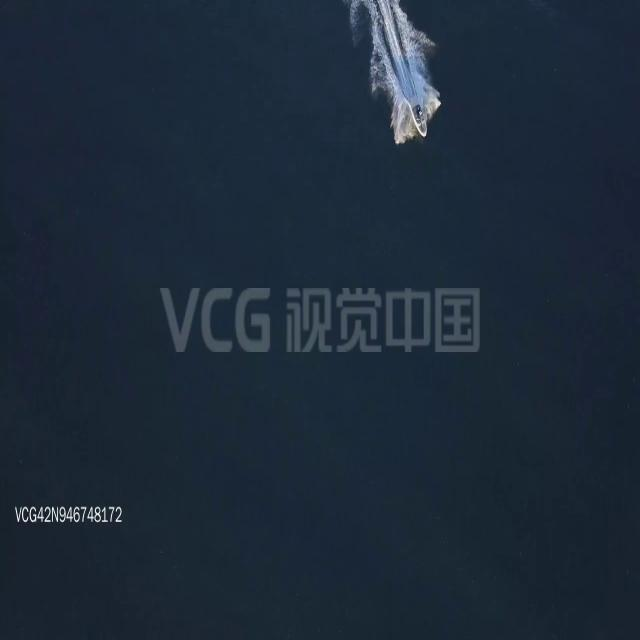houseboat: (407, 95, 427, 137)
